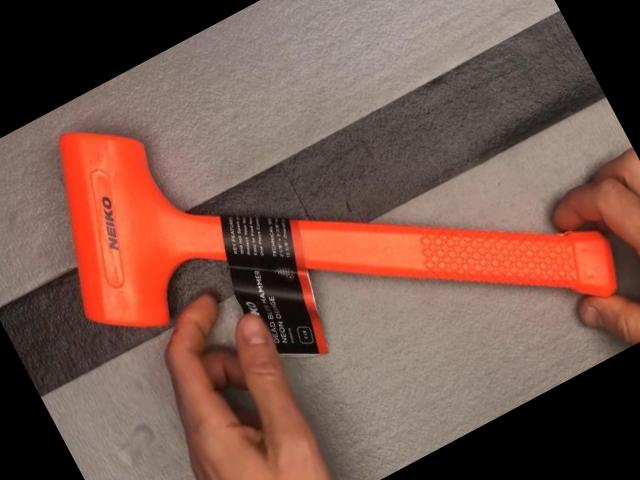hammer: (3, 0, 634, 480)
